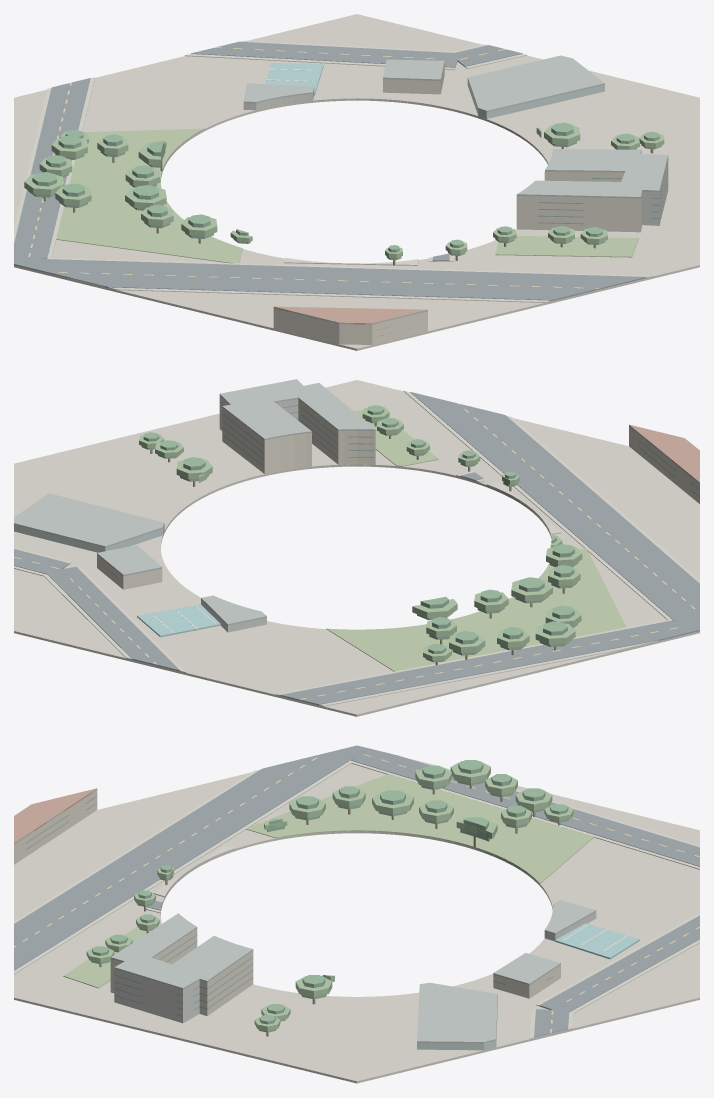
The model's file is surround-Q1.glb.
The picture shows the model from 3 angles, top to bottom: view 1: azimuth 30°, elevation 25°; view 2: azimuth 150°, elevation 25°; view 3: azimuth 270°, elevation 25°; orthographic projection.
Parts seen in each view (by area): view 1: Q1_neutral, Q1_road, Q1_grass, Q1_roof, Q1_cream, Q1_tree2, Q1_pave, Q1_tree, Q1_redroof, Q1_stone, Q1_sport, Q1_mint (+1 smaller); view 2: Q1_neutral, Q1_road, Q1_roof, Q1_grass, Q1_cream, Q1_tree2, Q1_pave, Q1_tree, Q1_sport, Q1_redroof, Q1_mint, Q1_stone (+2 smaller); view 3: Q1_neutral, Q1_road, Q1_roof, Q1_grass, Q1_tree2, Q1_cream, Q1_pave, Q1_tree, Q1_stone, Q1_sport, Q1_redroof, Q1_glass (+2 smaller).
Part boxes in pixels (x1=…): Q1_neutral: x1=14, y1=14, x2=699, y2=350; Q1_road: x1=14, y1=41, x2=646, y2=301; Q1_grass: x1=56, y1=128, x2=638, y2=263; Q1_roof: x1=243, y1=55, x2=668, y2=324; Q1_cream: x1=273, y1=63, x2=642, y2=344; Q1_tree2: x1=24, y1=125, x2=664, y2=258; Q1_pave: x1=14, y1=40, x2=653, y2=302; Q1_tree: x1=28, y1=122, x2=661, y2=260; Q1_redroof: x1=273, y1=306, x2=426, y2=324; Q1_stone: x1=243, y1=89, x2=668, y2=225; Q1_sport: x1=266, y1=63, x2=323, y2=95; Q1_mint: x1=467, y1=79, x2=604, y2=118; Q1_neutral: x1=14, y1=380, x2=699, y2=716; Q1_road: x1=14, y1=392, x2=699, y2=705; Q1_roof: x1=14, y1=379, x2=699, y2=625; Q1_grass: x1=326, y1=410, x2=626, y2=671; Q1_cream: x1=97, y1=399, x2=699, y2=589; Q1_tree2: x1=139, y1=407, x2=582, y2=660; Q1_pave: x1=14, y1=390, x2=699, y2=706; Q1_tree: x1=141, y1=405, x2=578, y2=662; Q1_sport: x1=137, y1=604, x2=220, y2=637; Q1_redroof: x1=629, y1=424, x2=699, y2=482; Q1_mint: x1=14, y1=524, x2=164, y2=552; Q1_stone: x1=201, y1=395, x2=298, y2=632; Q1_neutral: x1=14, y1=763, x2=699, y2=1083; Q1_road: x1=14, y1=745, x2=699, y2=1037; Q1_roof: x1=14, y1=788, x2=596, y2=1043; Q1_grass: x1=63, y1=774, x2=593, y2=988; Q1_tree2: x1=86, y1=761, x2=573, y2=1030; Q1_cream: x1=14, y1=790, x2=560, y2=1015; Q1_pave: x1=14, y1=758, x2=699, y2=1038; Q1_tree: x1=91, y1=760, x2=568, y2=1032; Q1_stone: x1=114, y1=906, x2=596, y2=1023; Q1_sport: x1=554, y1=923, x2=639, y2=959; Q1_redroof: x1=14, y1=788, x2=96, y2=842; Q1_glass: x1=26, y1=796, x2=560, y2=1016.
Bounding box in the file's own units: 16.17 × 0.8428 × 14.
